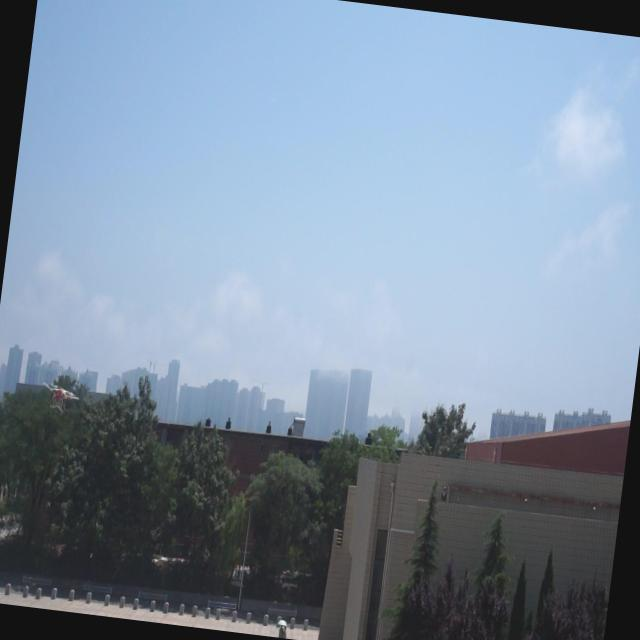drone: (37, 377, 84, 422)
